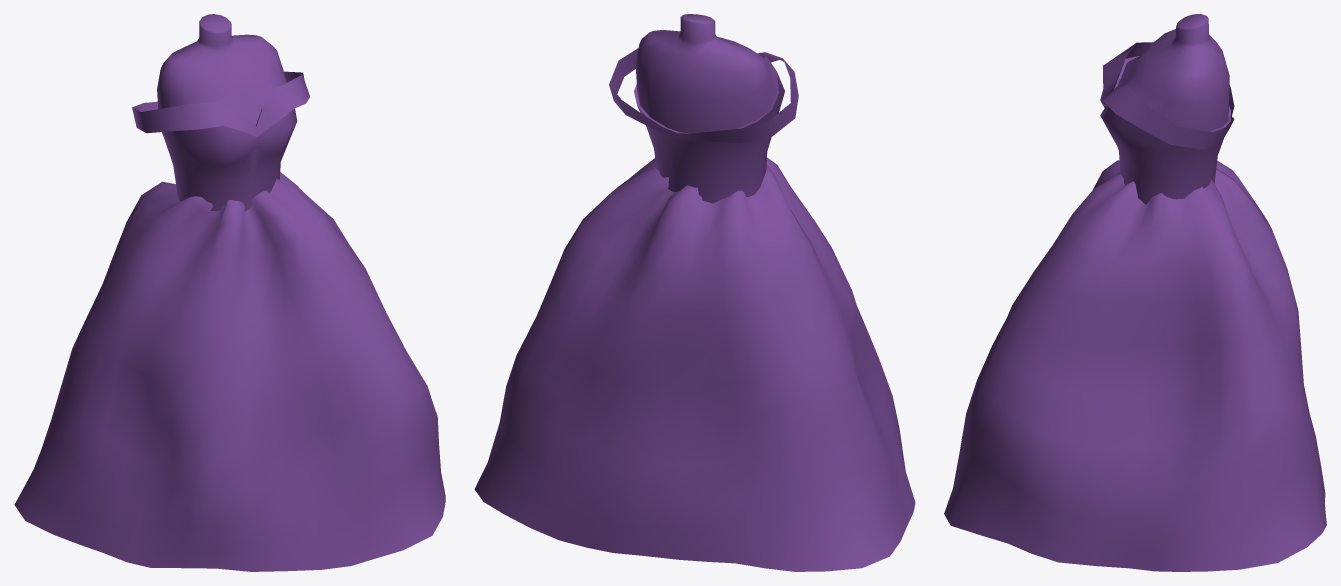
File: dress.fbx
3 renders of one model, left to right at view 1: azimuth 30°, elevation 25°; view 2: azimuth 150°, elevation 25°; view 3: azimuth 270°, elevation 25°, orthographic. The views are drawn at different scales.
Visible parts, largest first — view 1: Cone001, Mannm, Cylinder001, top; view 2: Cone001, Mannm, Cylinder001, top; view 3: Cone001, Mannm, Cylinder001, top.
Boxes of the visible parts, box(x1,y1,x2,y2) form: Cone001: box(14, 172, 445, 571); Mannm: box(157, 14, 286, 125); Cylinder001: box(161, 108, 297, 211); top: box(132, 71, 309, 136); Cone001: box(474, 157, 915, 571); Mannm: box(635, 14, 775, 133); Cylinder001: box(634, 56, 784, 203); top: box(609, 48, 798, 143); Cone001: box(944, 160, 1326, 571); Mannm: box(1118, 14, 1229, 131); Cylinder001: box(1100, 56, 1231, 204); top: box(1103, 42, 1234, 149).
Size of the model in its own units: 43.8 by 54.99 by 38.96.
